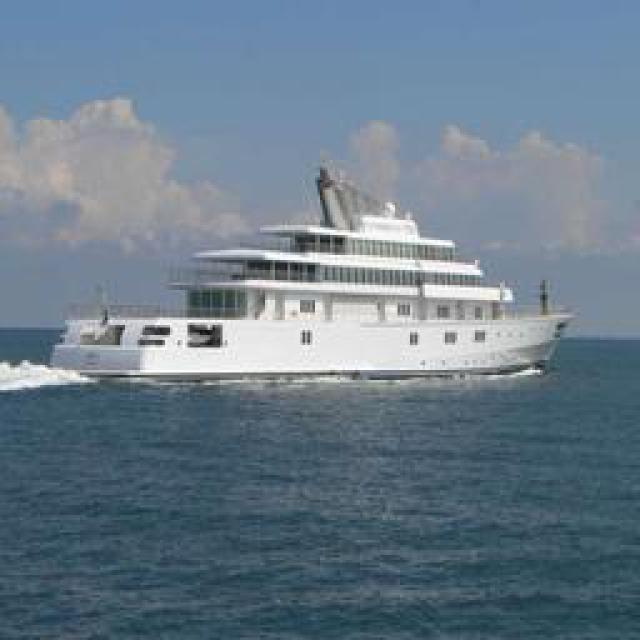Ship: (53, 157, 581, 390)
